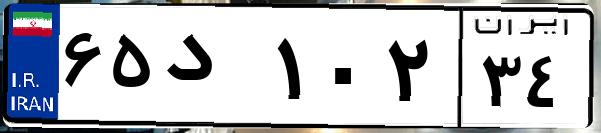0: (330, 28, 385, 110)
1: (270, 28, 330, 110)
2: (385, 28, 445, 110)
3: (475, 38, 525, 113)
4: (525, 38, 570, 115)
5: (110, 28, 158, 98)
6: (57, 26, 110, 100)
د: (158, 20, 270, 120)
